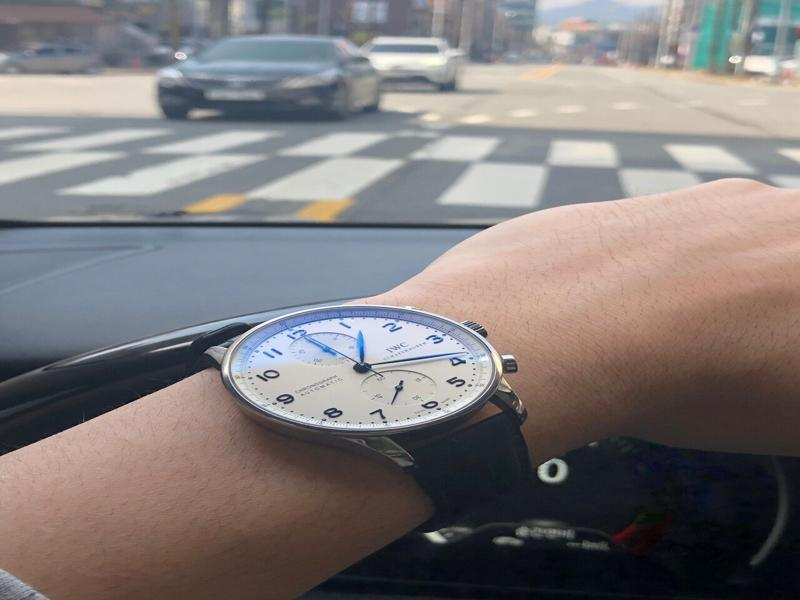watch: (192, 300, 535, 537)
